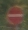No entry: (6, 6, 23, 25)
